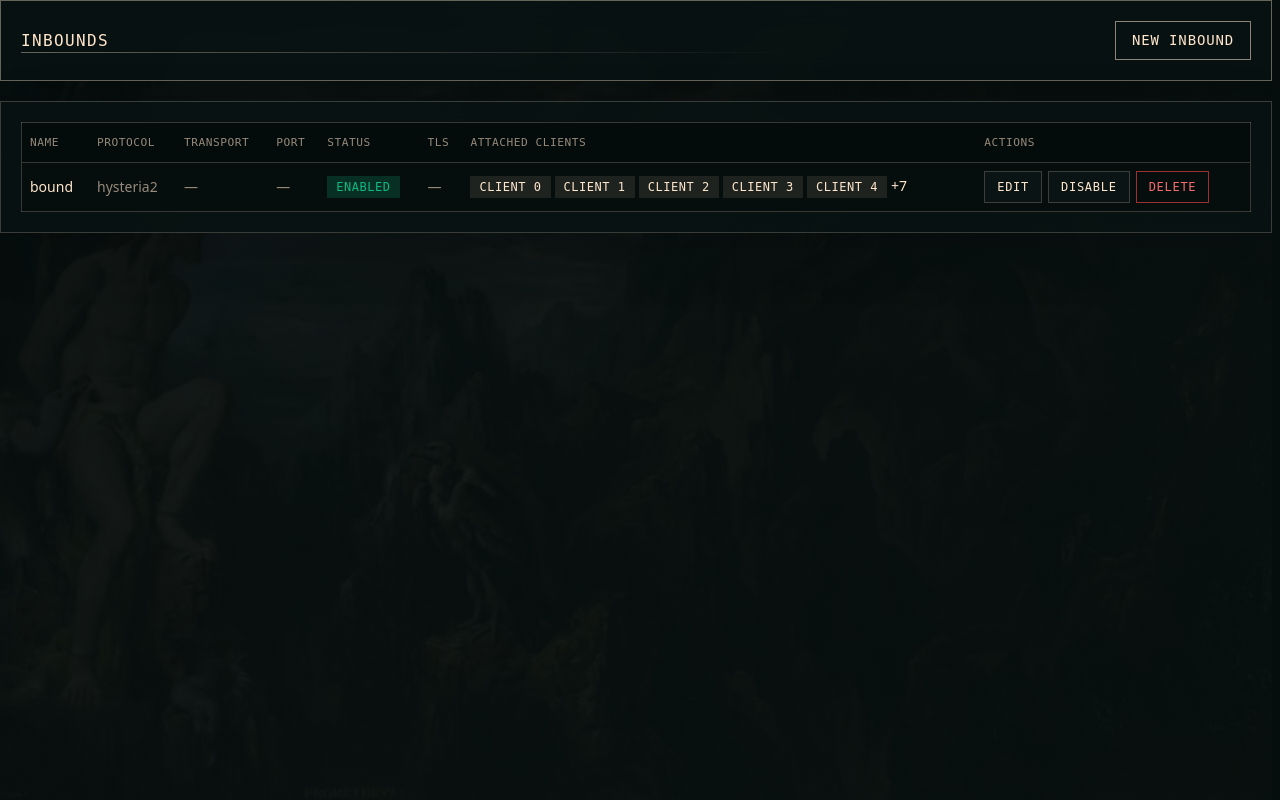
Test: InboundsPage attached clients › loads a small preview and links to the complete filtered client list
Click the button "Delete": (1172, 187) top-left (1136, 171), bottom-right (1209, 203)
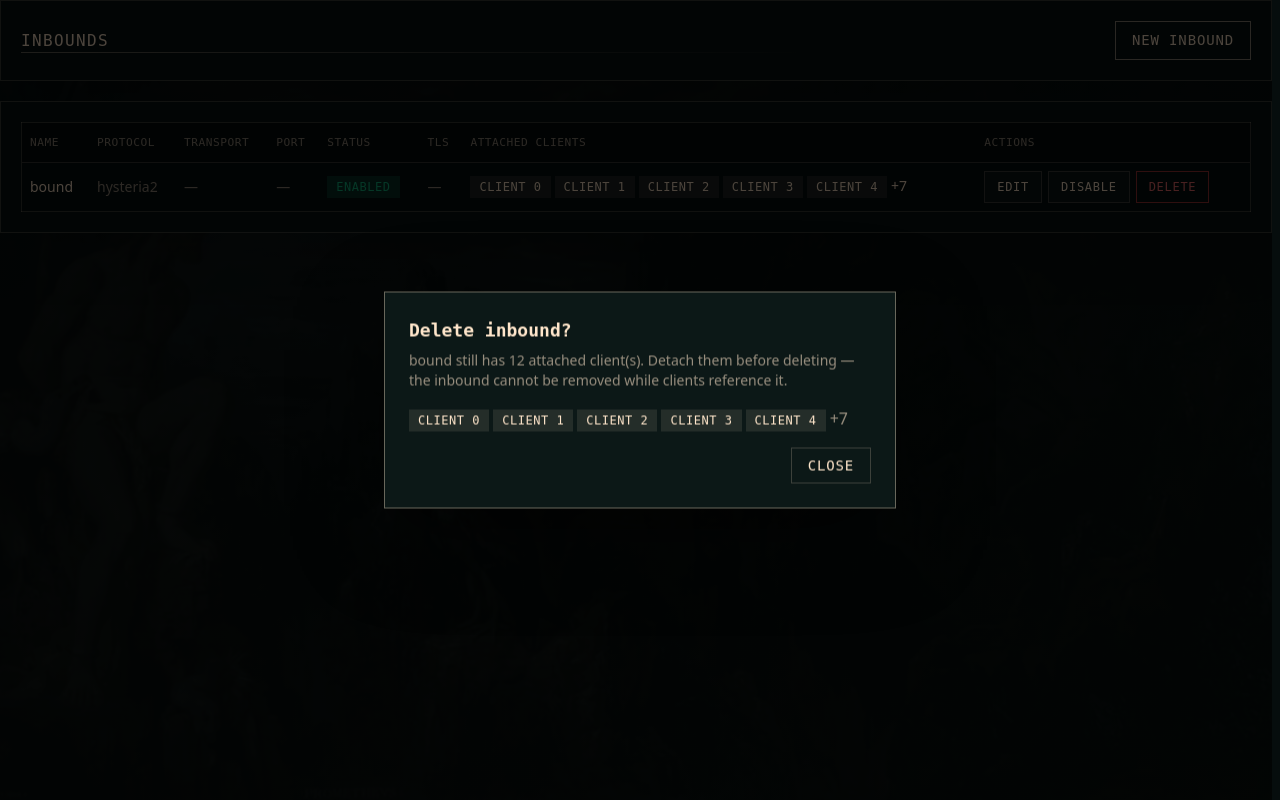
expect the text "still has 12 attached client" is shown: met, box top-left (409, 350), bottom-right (854, 390)
